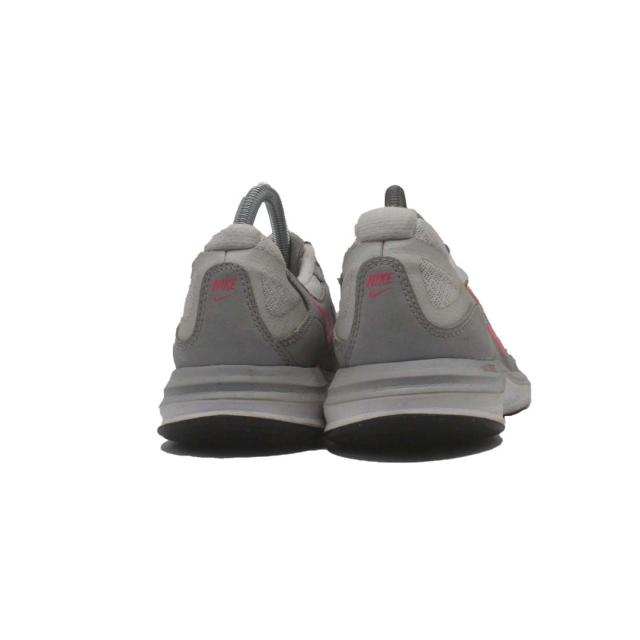heel: (338, 206, 494, 365), (172, 222, 318, 367)
midsole: (325, 358, 529, 430), (156, 368, 325, 441)
